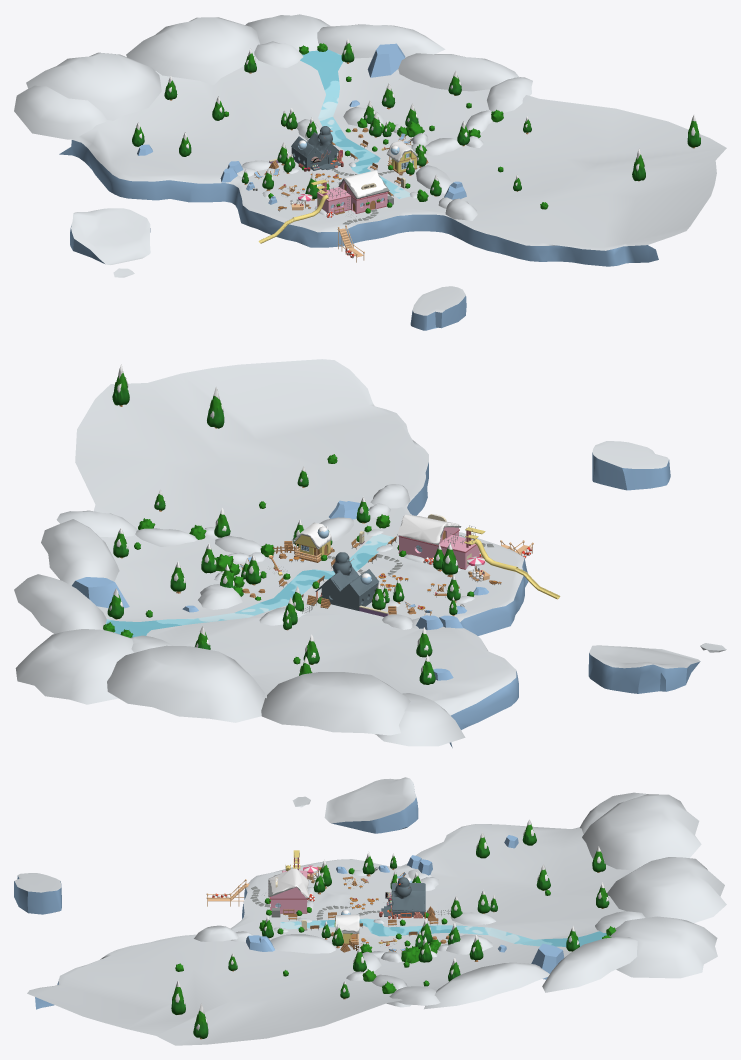
The model's file is Individual_PudgyPort_02.fbx.
The picture shows the model from 3 angles, top to bottom: view 1: azimuth 30°, elevation 25°; view 2: azimuth 150°, elevation 25°; view 3: azimuth 270°, elevation 25°; orthographic projection. The views are drawn at different scales.
Visible parts, largest first — view 1: pasted__Object_PudgyPortRoad, pasted__SnowPatch22, pasted__SnowPatch23, pasted__SnowPatch24, pasted__SnowPatch25, pasted__SnowPatch26, pasted__polySurface129, pasted__SnowPatch28, polySurface2, pasted__SnowPatch31, pasted__SnowPatch27, pasted__Object_IceRock9 (+3 smaller); view 2: pasted__Object_PudgyPortRoad, pasted__SnowPatch22, pasted__SnowPatch23, pasted__SnowPatch28, pasted__SnowPatch26, pasted__SnowPatch25, pasted__polySurface129, pasted__SnowPatch24, polySurface2, pasted__SnowPatch31, pasted__pasted__Foliage_Bush17, pasted__Object_IceRock9 (+5 smaller); view 3: pasted__Object_PudgyPortRoad, pasted__SnowPatch23, pasted__SnowPatch22, pasted__SnowPatch28, pasted__SnowPatch26, pasted__SnowPatch25, pasted__polySurface129, polySurface2, pasted__SnowPatch8, pasted__pasted__Foliage_Bush17, pasted__SnowPatch31, pasted__SnowPatch24 (+5 smaller).
Part boxes in pixels (left/top/right/bottom): pasted__Object_PudgyPortRoad: left=59, top=49, right=726, bottom=330; pasted__SnowPatch22: left=126, top=17, right=260, bottom=85; pasted__SnowPatch23: left=26, top=52, right=161, bottom=120; pasted__SnowPatch24: left=14, top=85, right=106, bottom=139; pasted__SnowPatch25: left=398, top=53, right=518, bottom=91; pasted__SnowPatch26: left=317, top=24, right=445, bottom=58; pasted__polySurface129: left=258, top=170, right=389, bottom=243; pasted__SnowPatch28: left=245, top=14, right=330, bottom=51; polySurface2: left=291, top=126, right=340, bottom=170; pasted__SnowPatch31: left=487, top=77, right=532, bottom=112; pasted__SnowPatch27: left=254, top=41, right=303, bottom=67; pasted__Object_IceRock9: left=367, top=43, right=405, bottom=77; pasted__Object_PudgyPortRoad: left=75, top=359, right=726, bottom=747; pasted__SnowPatch22: left=107, top=645, right=265, bottom=722; pasted__SnowPatch23: left=261, top=672, right=410, bottom=735; pasted__SnowPatch28: left=15, top=629, right=133, bottom=704; pasted__SnowPatch26: left=14, top=574, right=106, bottom=633; pasted__SnowPatch25: left=41, top=519, right=119, bottom=585; pasted__polySurface129: left=397, top=514, right=560, bottom=599; pasted__SnowPatch24: left=375, top=693, right=465, bottom=746; polySurface2: left=315, top=552, right=379, bottom=610; pasted__SnowPatch31: left=56, top=510, right=137, bottom=537; pasted__pasted__Foliage_Bush17: left=215, top=514, right=474, bottom=603; pasted__Object_IceRock9: left=72, top=577, right=129, bottom=608; pasted__Object_PudgyPortRoad: left=14, top=777, right=634, bottom=1045; pasted__SnowPatch23: left=582, top=794, right=701, bottom=870; pasted__SnowPatch22: left=607, top=857, right=726, bottom=922; pasted__SnowPatch28: left=609, top=916, right=717, bottom=978; pasted__SnowPatch26: left=542, top=937, right=637, bottom=992; pasted__SnowPatch25: left=424, top=962, right=549, bottom=1009; pasted__polySurface129: left=268, top=850, right=309, bottom=913; polySurface2: left=381, top=877, right=425, bottom=916; pasted__SnowPatch8: left=270, top=934, right=335, bottom=953; pasted__pasted__Foliage_Bush17: left=259, top=868, right=449, bottom=963; pasted__SnowPatch31: left=389, top=986, right=440, bottom=1005; pasted__SnowPatch24: left=579, top=792, right=648, bottom=834.
Bounding box in the file's own units: 11536 × 1360 × 12005.
